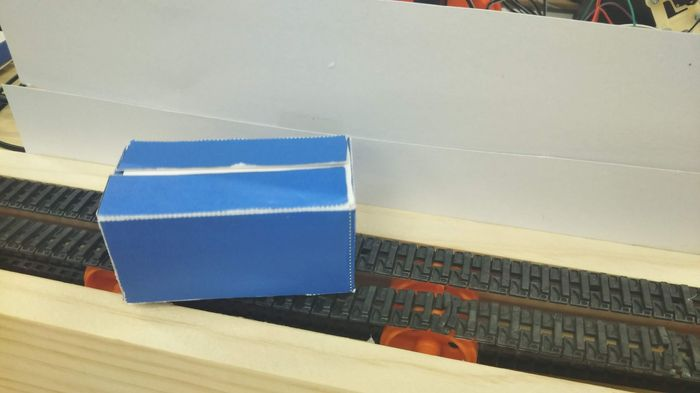box3: (96, 128, 361, 303)
